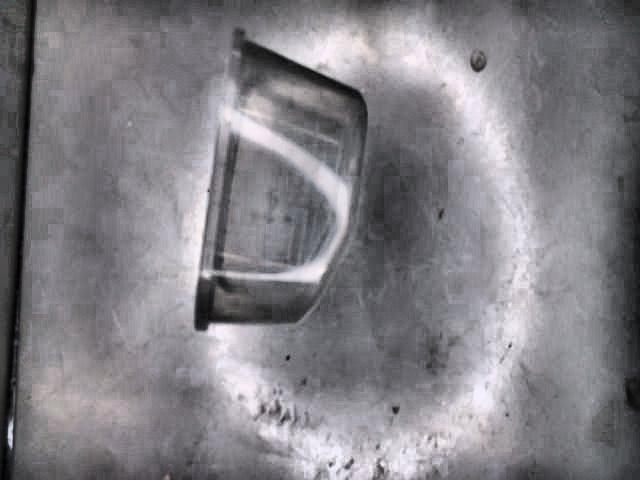Plastic: (195, 29, 371, 331)
